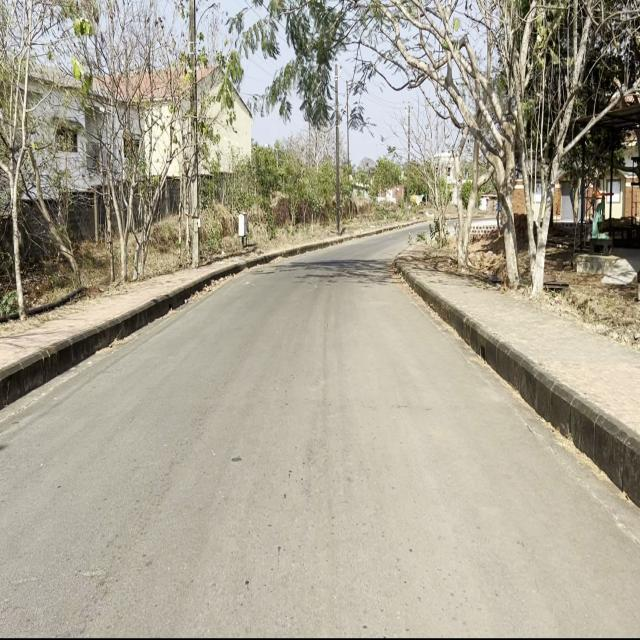Road: (3, 245, 637, 633)
